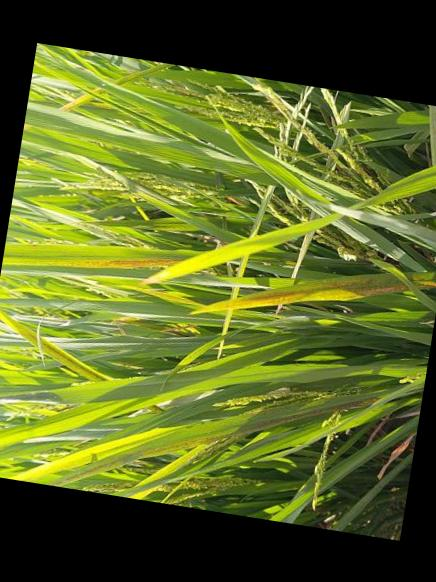Leaf Streak: (189, 272, 410, 315), (10, 257, 178, 268)
